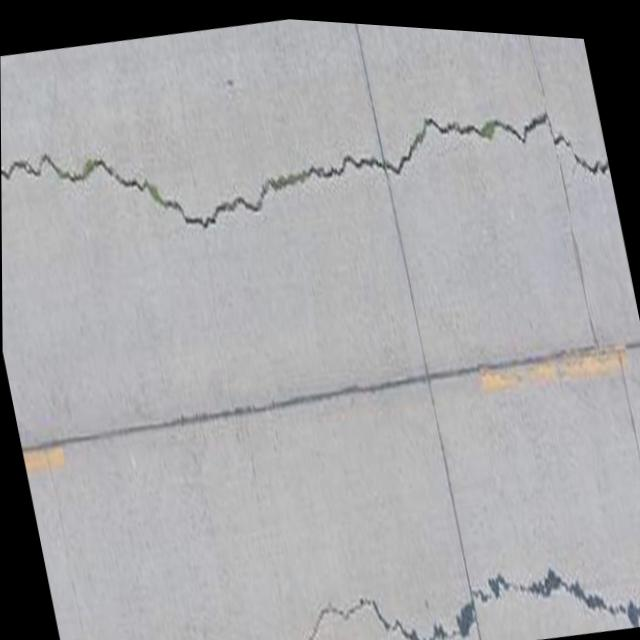Crack: (0, 4, 621, 338), (282, 515, 640, 640)
